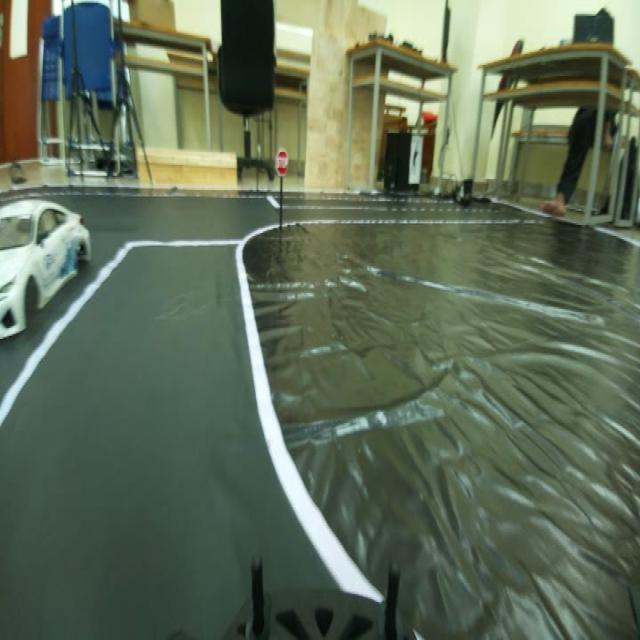car: (1, 186, 94, 353)
stop: (272, 140, 294, 180)
